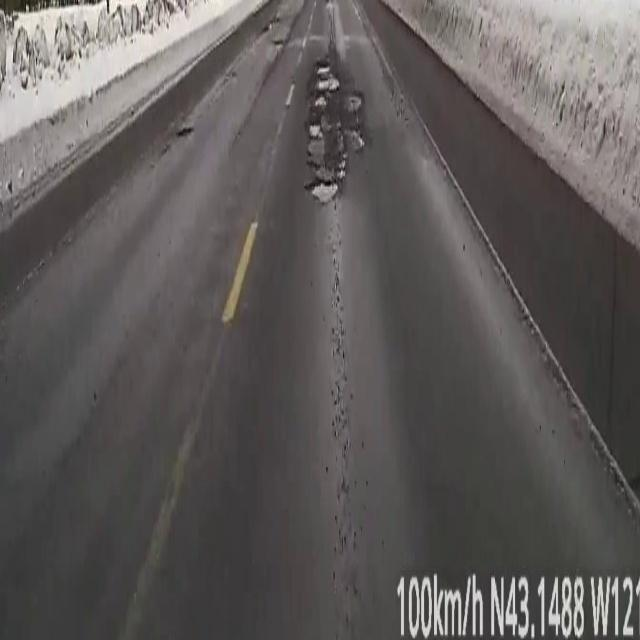pothole: (302, 0, 369, 203), (0, 378, 19, 418)
